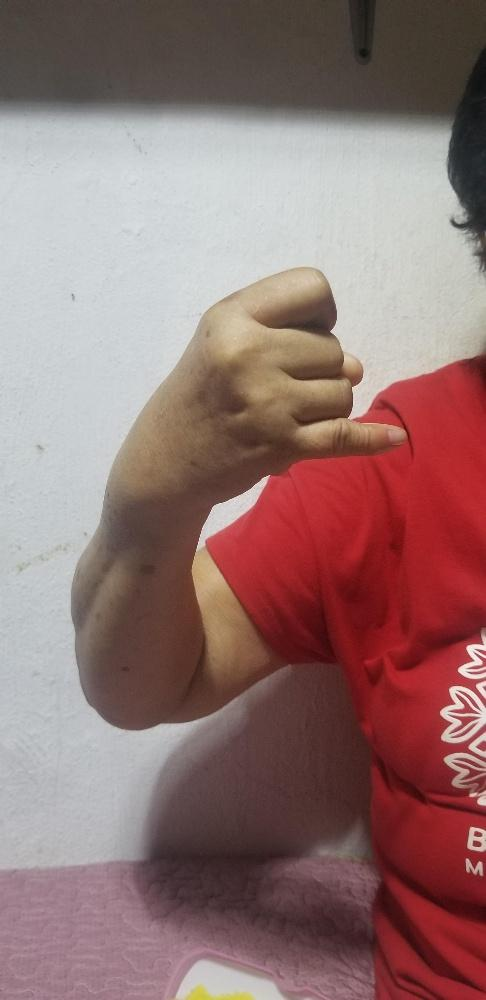j: (166, 266, 408, 501)
